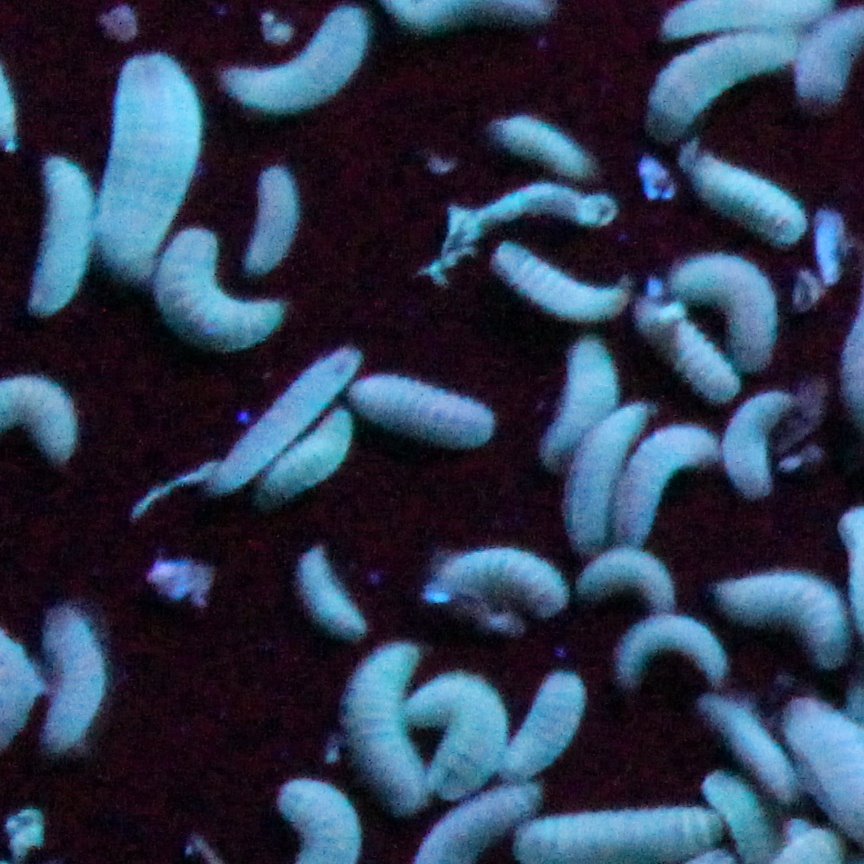larve: (93, 58, 203, 277), (209, 341, 356, 502), (343, 641, 434, 814), (229, 9, 370, 119), (648, 29, 800, 126), (158, 228, 282, 346), (667, 245, 780, 374), (402, 670, 512, 802), (719, 570, 853, 675), (490, 232, 635, 329), (564, 397, 651, 542), (622, 416, 719, 545), (702, 692, 807, 804), (492, 670, 592, 787), (680, 155, 803, 245), (29, 155, 96, 319), (39, 604, 109, 755), (343, 385, 497, 453), (431, 548, 565, 626), (538, 335, 616, 461), (263, 411, 353, 502), (490, 109, 596, 184), (617, 621, 729, 687), (300, 548, 368, 648), (726, 392, 790, 494), (243, 170, 302, 272)
